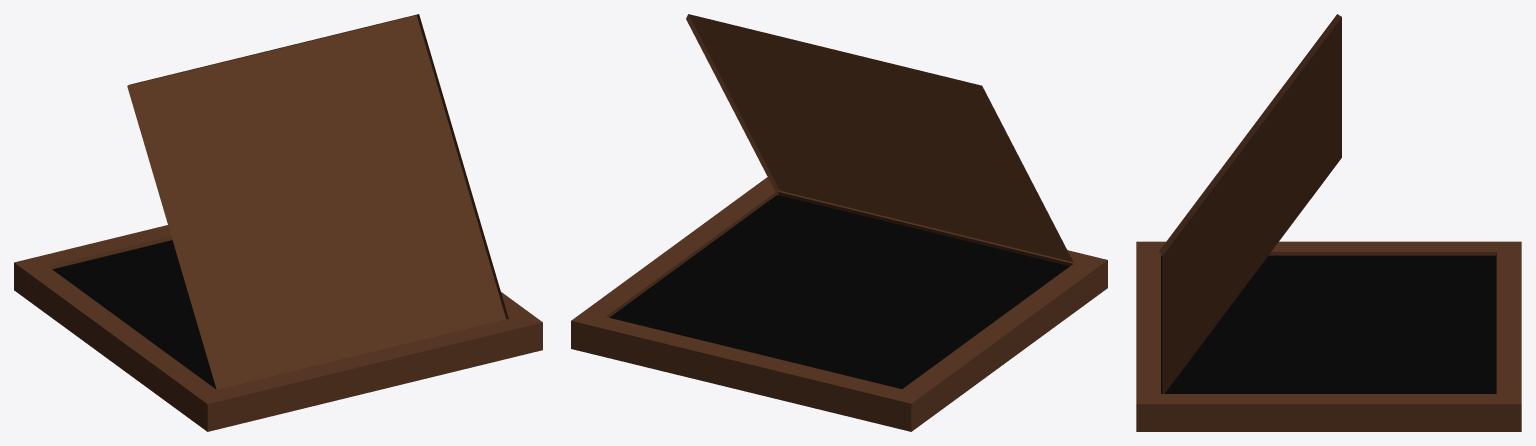
Rendered from ingredient bin.glb.
3 views of the same model, side by side, from view 1: azimuth 30°, elevation 25°; view 2: azimuth 150°, elevation 25°; view 3: azimuth 270°, elevation 25° (orthographic). The views are drawn at different scales.
Parts seen in each view (by area): view 1: Cube; view 2: Cube; view 3: Cube.
Part boxes in pixels (x1,y1,x2,y2): Cube: [14, 14, 542, 431]; Cube: [571, 14, 1107, 431]; Cube: [1136, 14, 1521, 431].
Bounding box in the file's own units: 2 × 1.53 × 2.
